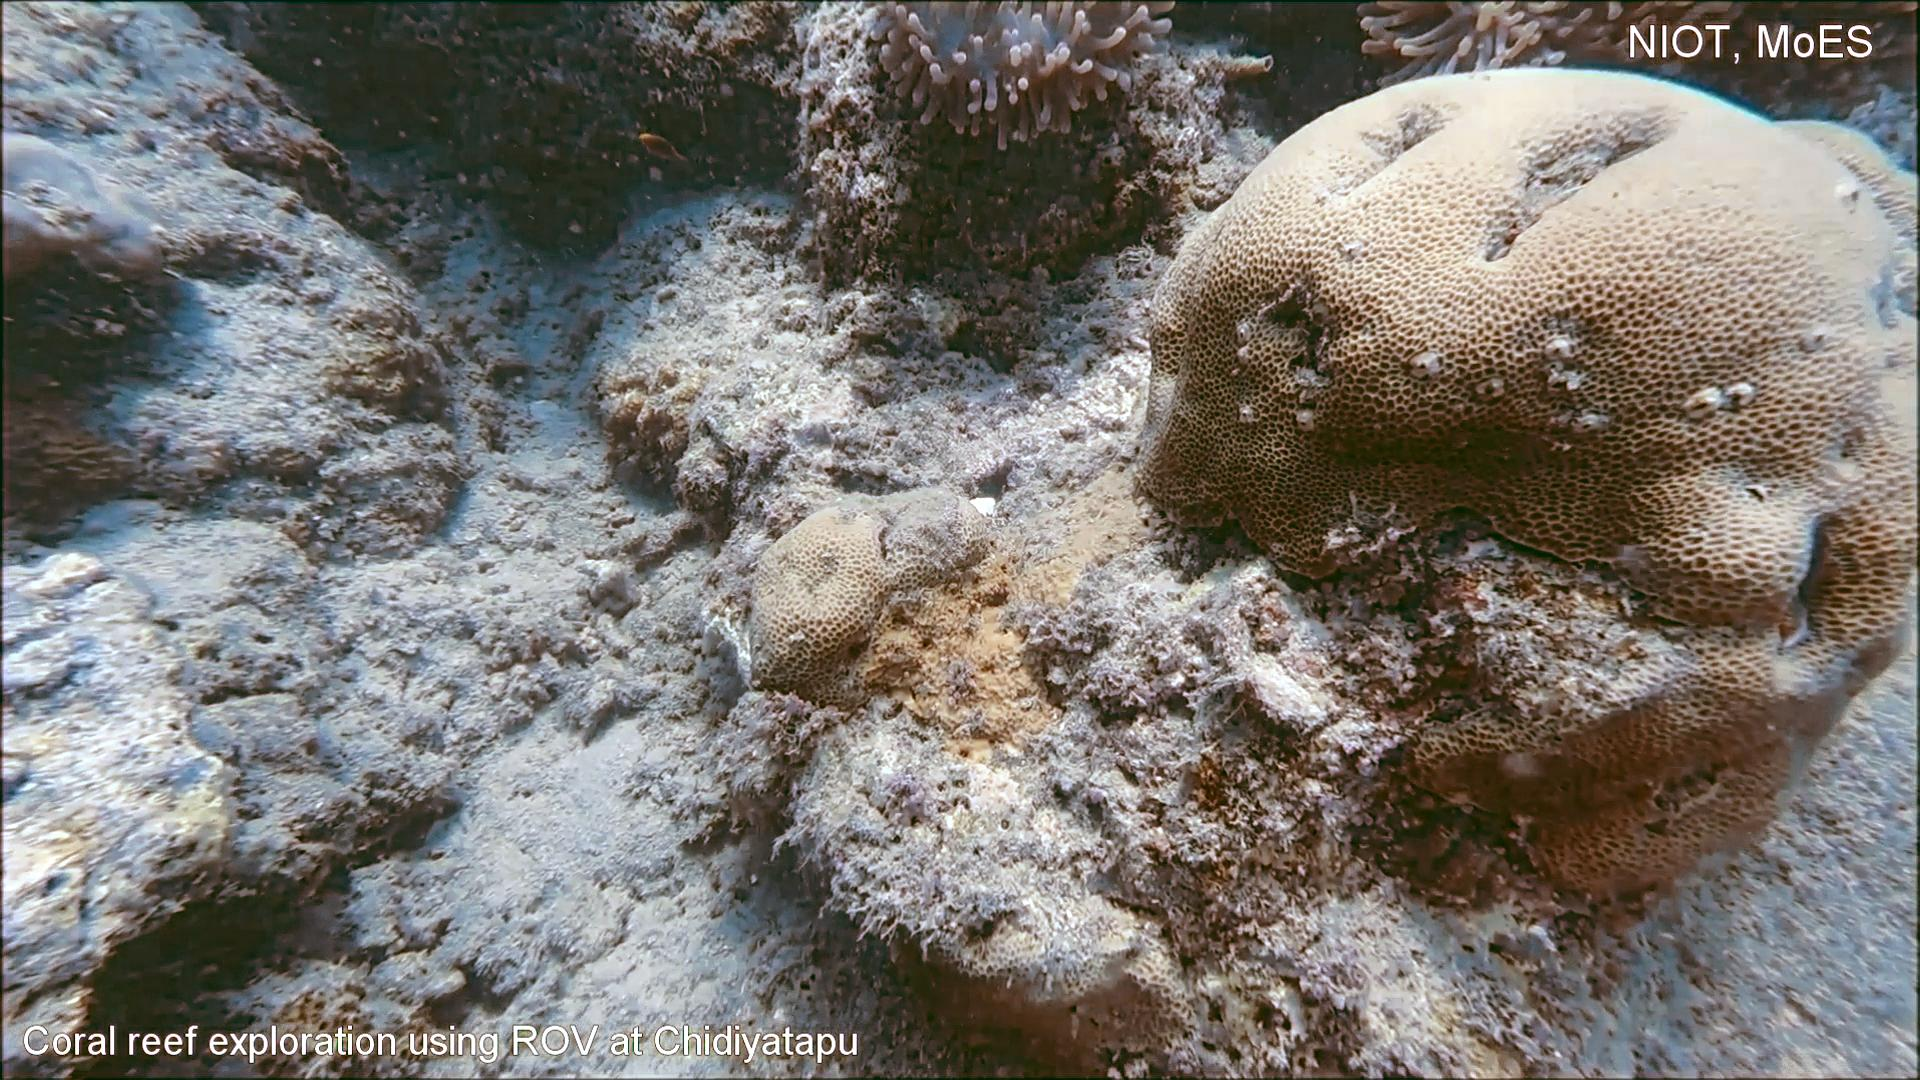Macrodactyla doreensis-Long tentacle Anemone: (855, 0, 1185, 164), (1346, 0, 1920, 86)
